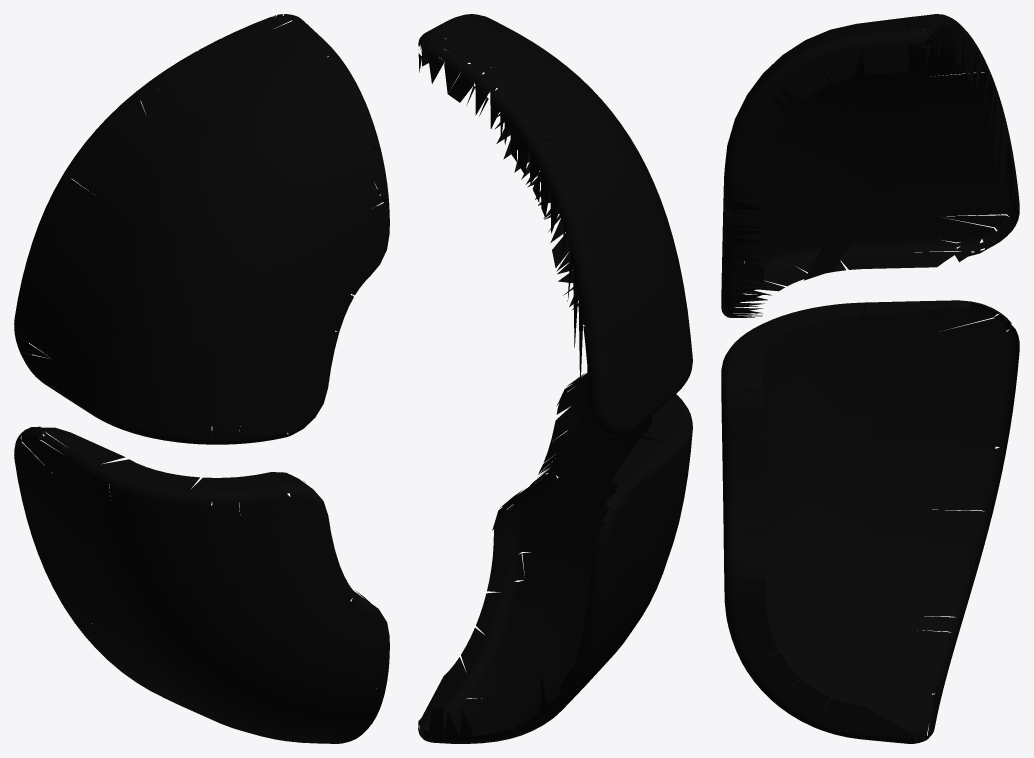
3 renders of one model, left to right at view 1: azimuth 30°, elevation 25°; view 2: azimuth 150°, elevation 25°; view 3: azimuth 270°, elevation 25°, orthographic.
Bounding box in the file's own units: 0.0533 × 0.15 × 0.0569.
